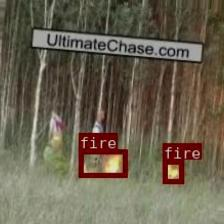fire: (77, 149, 127, 177), (162, 158, 183, 182)
